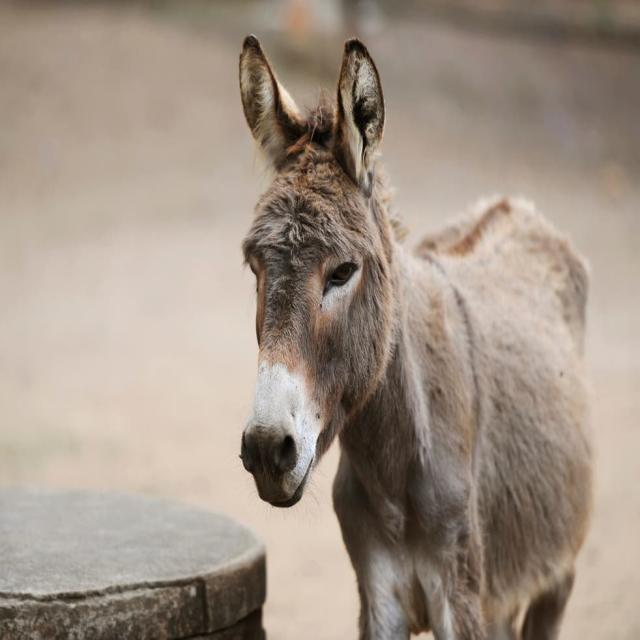Donkey: (228, 22, 602, 640)
